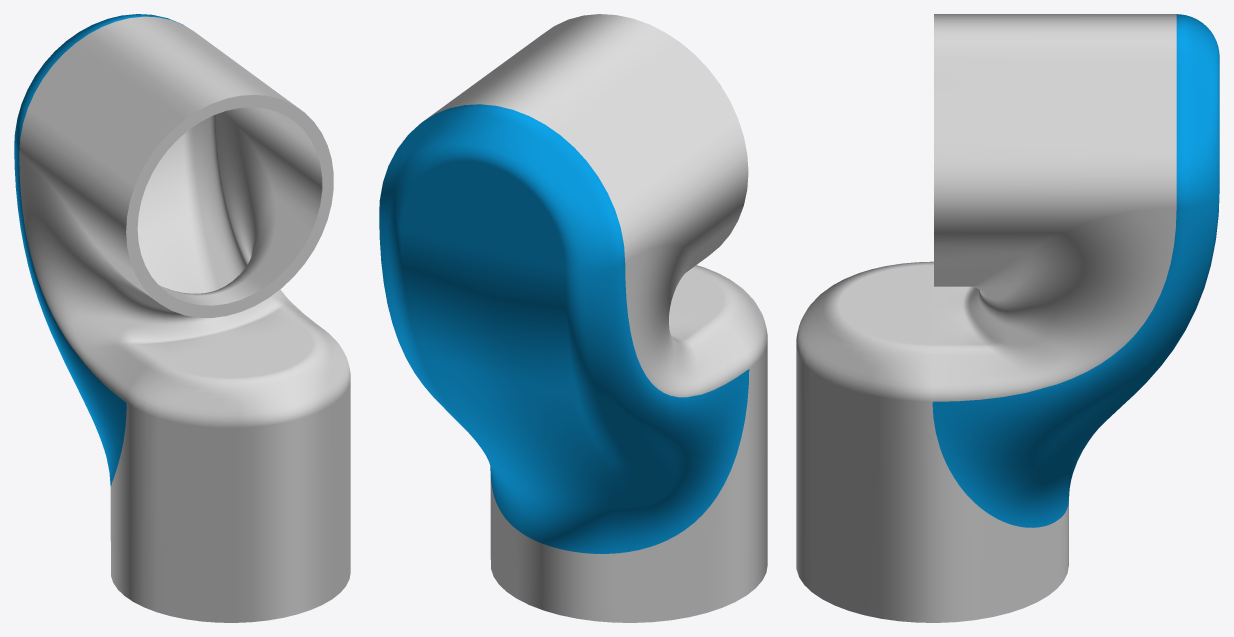
The picture shows the model from 3 angles, left to right: view 1: azimuth 30°, elevation 25°; view 2: azimuth 150°, elevation 25°; view 3: azimuth 270°, elevation 25°; orthographic projection. The views are drawn at different scales.
Visible parts, largest first — view 1: stitch_result_stitch_all; view 2: stitch_result_stitch_all; view 3: stitch_result_stitch_all.
Boxes of the visible parts, bbox=[...] form: stitch_result_stitch_all: bbox=[14, 14, 350, 622]; stitch_result_stitch_all: bbox=[379, 14, 767, 622]; stitch_result_stitch_all: bbox=[796, 14, 1219, 622].
Bounding box in the file's own units: 0.0951 × 0.1474 × 0.207.
